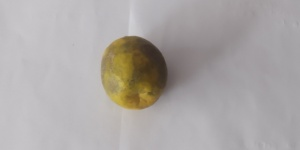BAD: (101, 33, 167, 110)
